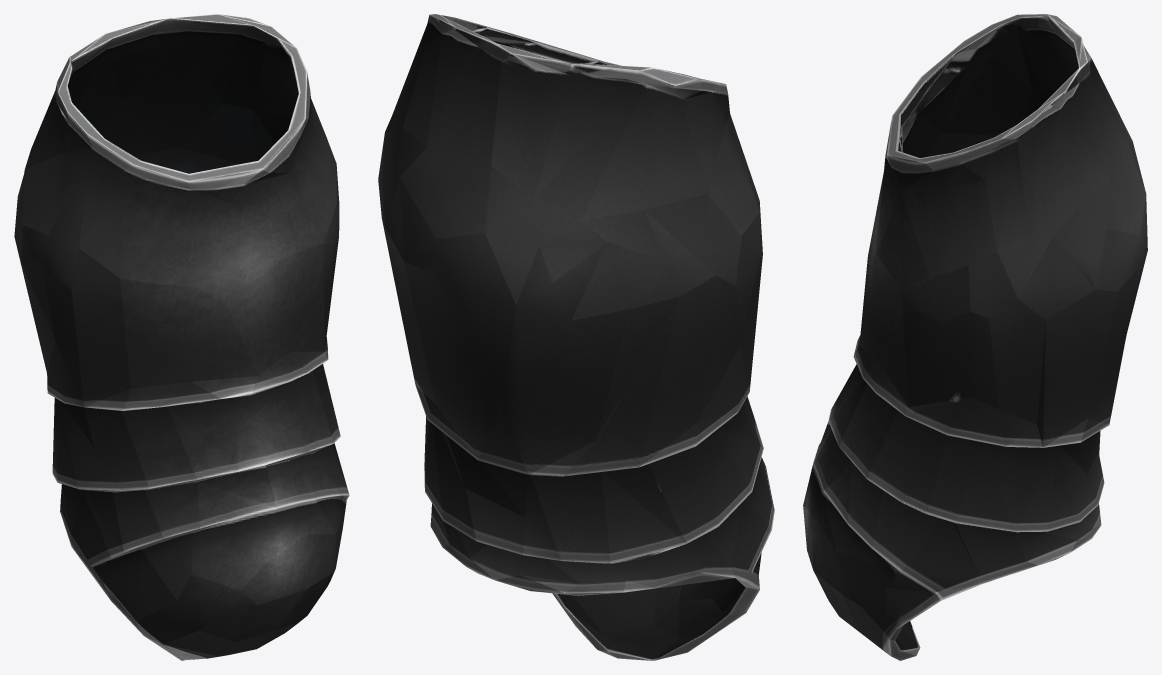
The model's file is arm.glb.
The picture shows the model from 3 angles, left to right: view 1: azimuth 30°, elevation 25°; view 2: azimuth 150°, elevation 25°; view 3: azimuth 270°, elevation 25°; orthographic projection. The views are drawn at different scales.
Parts seen in each view (by area): view 1: Mesh_0; view 2: Mesh_0; view 3: Mesh_0.
Part boxes in pixels (box(x1,y1,x2,y2)): Mesh_0: box(14, 14, 349, 660); Mesh_0: box(378, 14, 774, 660); Mesh_0: box(803, 14, 1147, 660).
Bounding box in the file's own units: 1.04 × 1.9 × 0.9978.
Materials: 1 (1 with a texture image).
